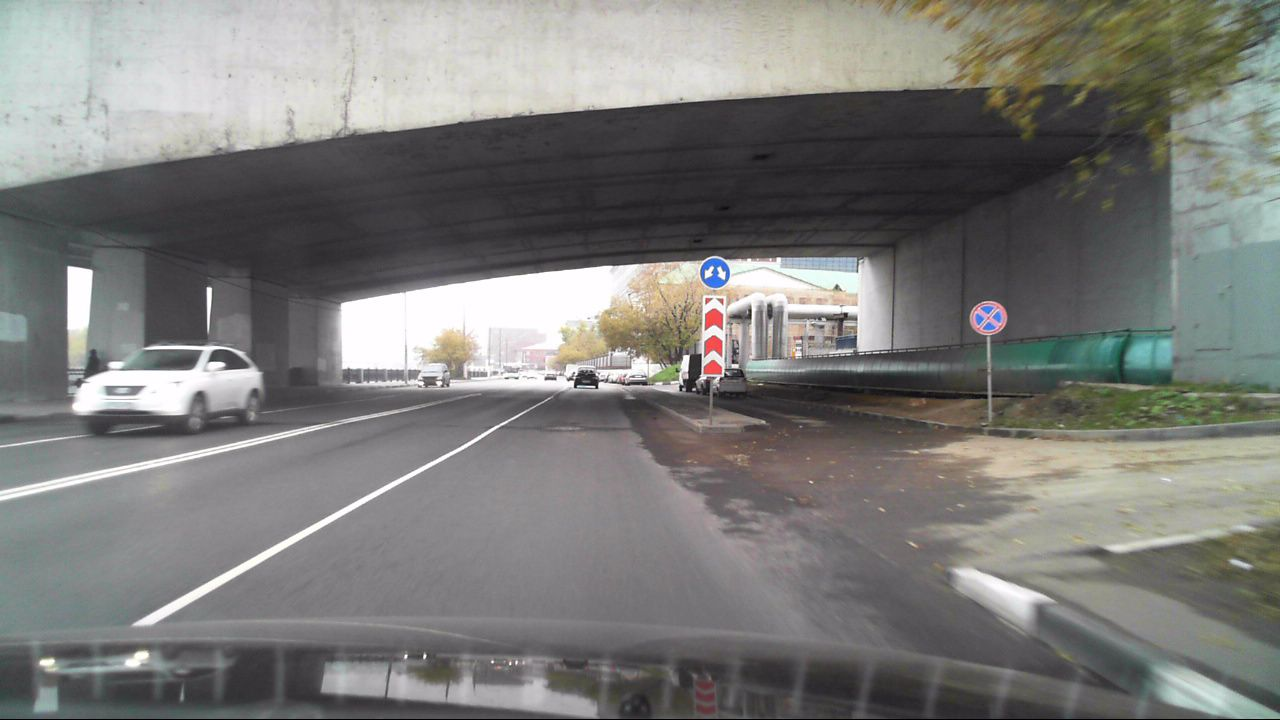No Parking: (970, 299, 1007, 335)
